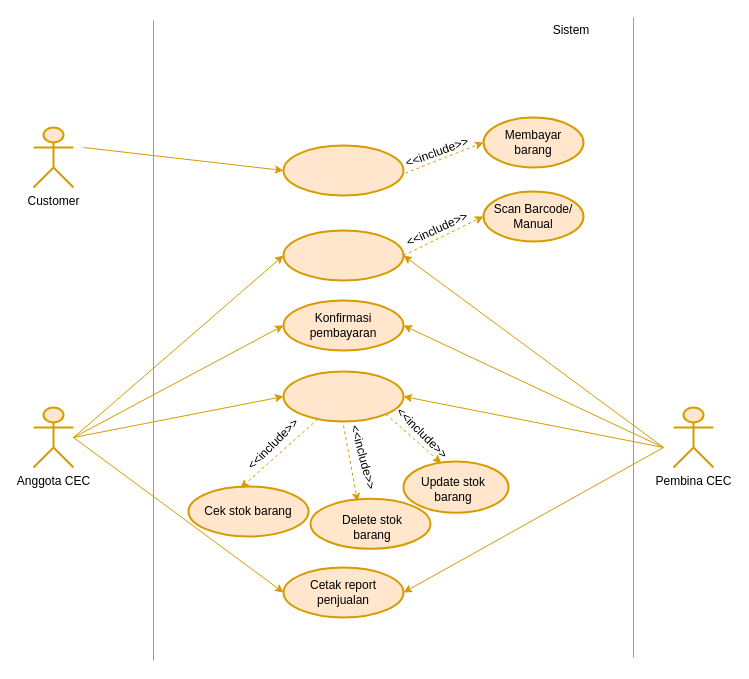
Some shapes in this 749 by 679 pixel diagram are drawn without their labels. Here are the shapes that lost their labels. From the top down, the centre of each, then its label:
pixel 343 170: Membeli barang
pixel 343 255: Input data barang
pixel 343 396: Mengelola stok barang
